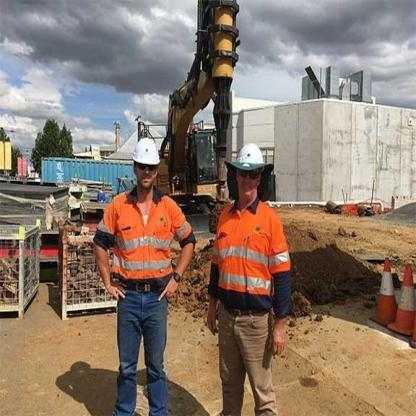person: (101, 115, 194, 414), (205, 131, 292, 414)
